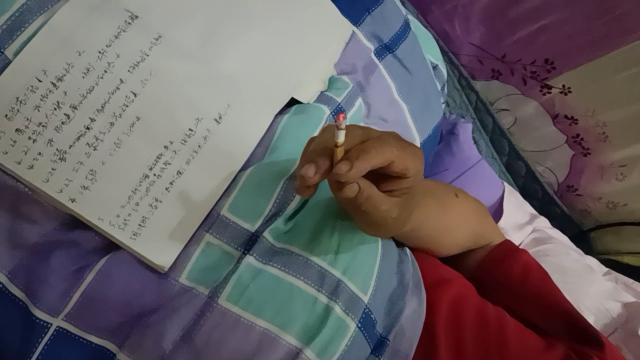Smoking: (334, 112, 346, 176)
